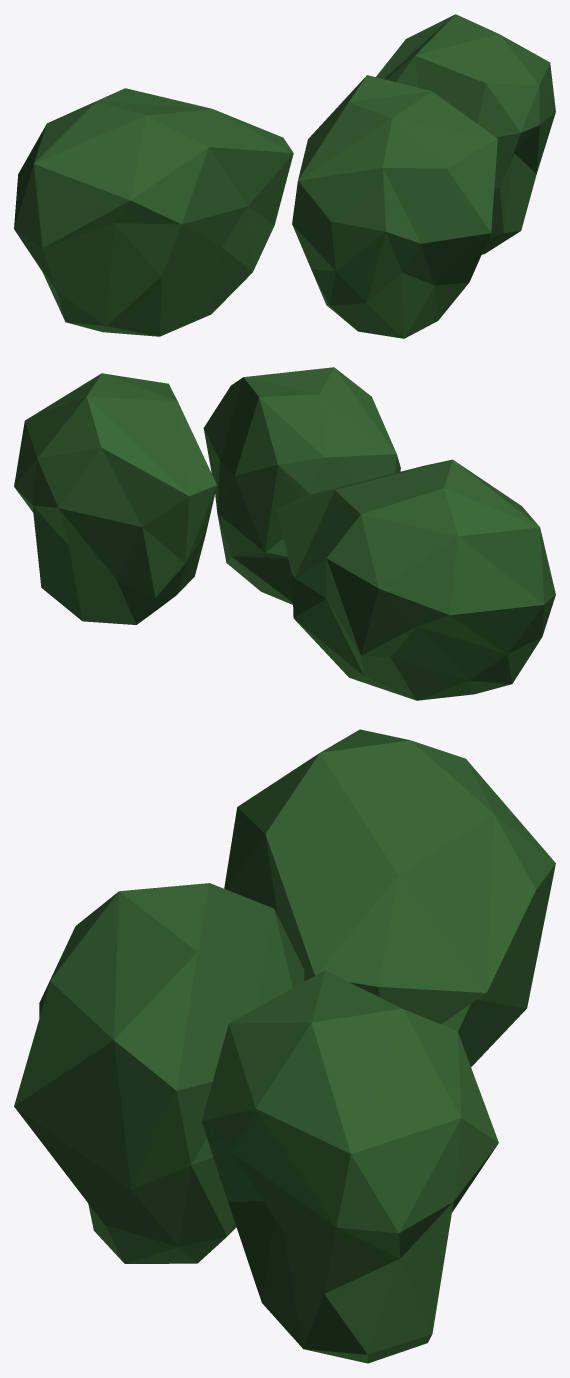
Rendered from Bush01.fbx.
3 views of the same model, one above another, from view 1: azimuth 30°, elevation 25°; view 2: azimuth 150°, elevation 25°; view 3: azimuth 270°, elevation 25° (orthographic). The views are drawn at different scales.
Parts seen in each view (by area): view 1: Bush01c, Bush01b, Bush01a; view 2: Bush01c, Bush01a, Bush01b; view 3: Bush01a, Bush01c, Bush01b.
Boxes of the visible parts, x1,y1,x2,y2 form: Bush01c: (14, 88, 293, 336); Bush01b: (292, 75, 497, 338); Bush01a: (376, 14, 555, 254); Bush01c: (276, 459, 555, 700); Bush01a: (14, 373, 216, 624); Bush01b: (203, 367, 400, 604); Bush01a: (201, 970, 498, 1363); Bush01c: (224, 729, 555, 1066); Bush01b: (14, 883, 304, 1263).
Bounding box in the file's own units: 5.53 × 3.16 × 2.18.
